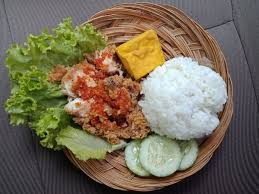ayam_geprek: (64, 46, 158, 159)
